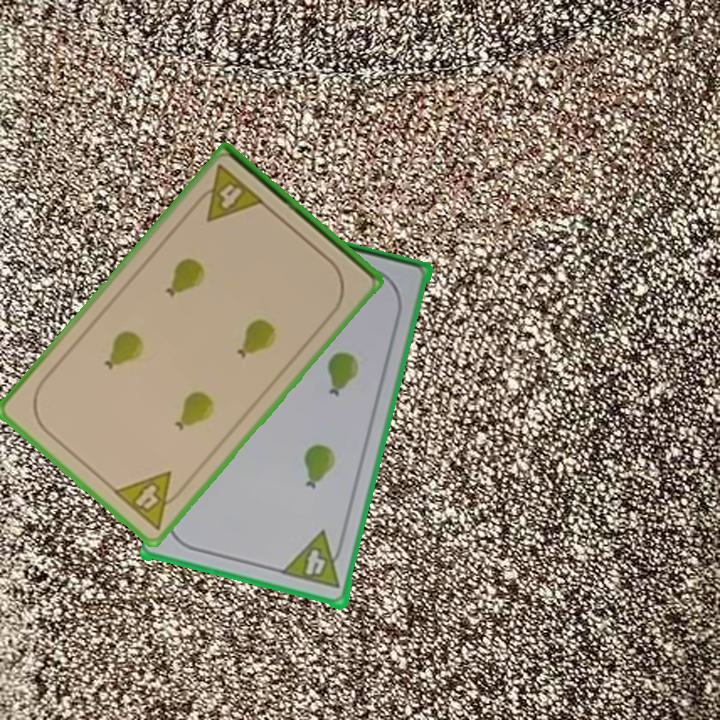4p: (109, 467, 190, 534), (189, 161, 268, 225), (279, 529, 348, 592)
